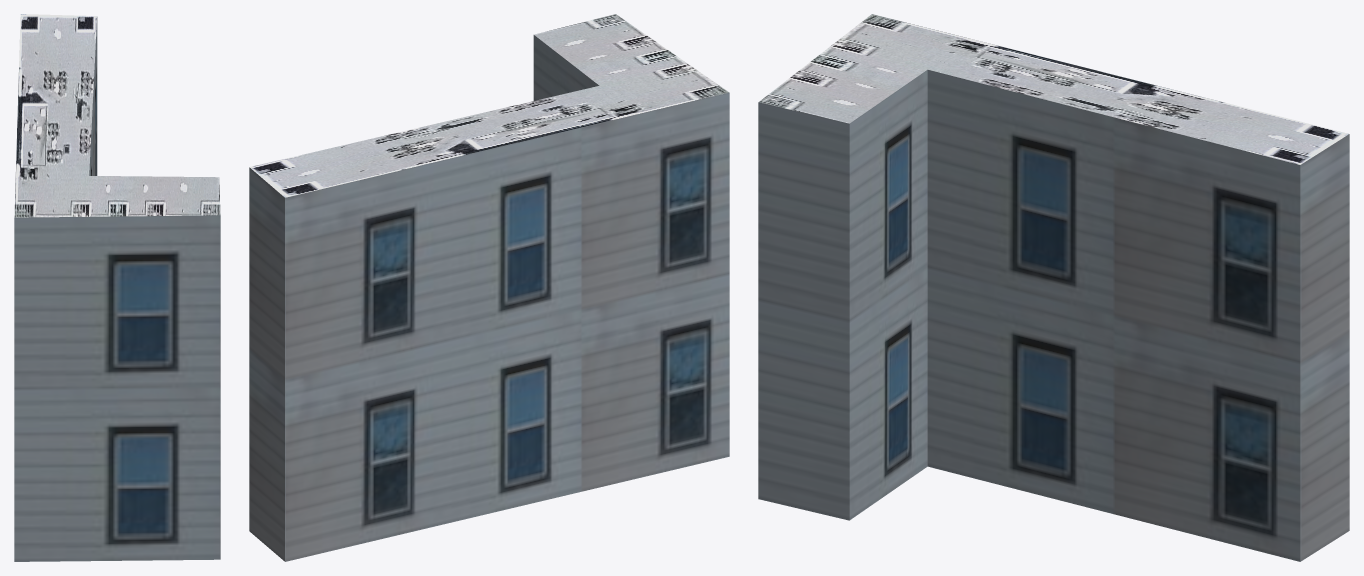
The model's file is ResTex__2031.fbx.
The picture shows the model from 3 angles, left to right: view 1: azimuth 30°, elevation 25°; view 2: azimuth 150°, elevation 25°; view 3: azimuth 270°, elevation 25°; orthographic projection. The views are drawn at different scales.
Parts seen in each view (by area): view 1: CityEngineMaterial_18_m, CityEngineMaterial_4_m; view 2: CityEngineMaterial_18_m, CityEngineMaterial_4_m; view 3: CityEngineMaterial_18_m, CityEngineMaterial_4_m.
Boxes of the visible parts, x1,y1,x2,y2 form: CityEngineMaterial_18_m: [14, 17, 220, 561]; CityEngineMaterial_4_m: [14, 14, 220, 217]; CityEngineMaterial_18_m: [249, 35, 729, 561]; CityEngineMaterial_4_m: [249, 14, 729, 197]; CityEngineMaterial_18_m: [758, 69, 1349, 561]; CityEngineMaterial_4_m: [759, 14, 1348, 164].
Size of the model in its own units: 4.9 by 6 by 8.1.
Materials: 2 (2 with a texture image).
